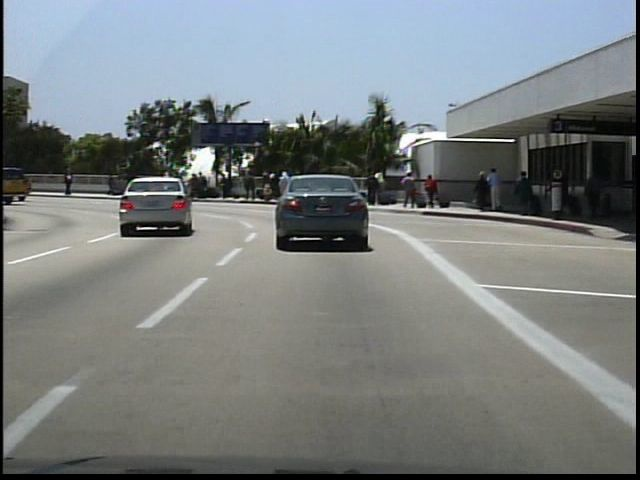person: (584, 162, 610, 221), (513, 165, 536, 217), (485, 164, 507, 217), (555, 164, 576, 218), (476, 167, 495, 215), (402, 170, 421, 211), (425, 169, 443, 209), (367, 171, 383, 208), (62, 166, 79, 198), (105, 171, 123, 198), (127, 169, 143, 198)
